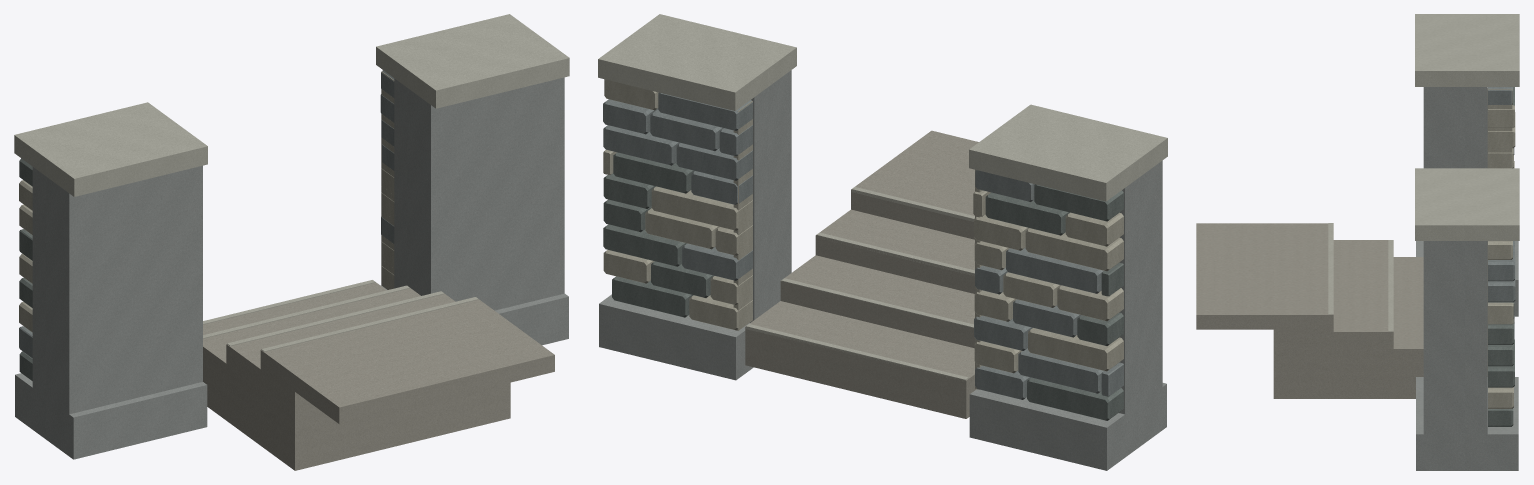
3 renders of one model, left to right at view 1: azimuth 30°, elevation 25°; view 2: azimuth 150°, elevation 25°; view 3: azimuth 270°, elevation 25°, orthographic. The views are drawn at different scales.
Parts seen in each view (by area): view 1: VIS_ConcreteWing__CONCRETE, VIS_Step_Stone__PATH_STONE, VIS_Coping__CONCRETE_CAP, VIS_UpperLanding__PATH_STONE, VIS_Foundation__CONCRETE, VIS_Nosing__CONCRETE_CAP, VIS_StoneWing__STONE_LIMESTONE, VIS_StoneWing__STONE_SLATE, VIS_StoneWing__STONE_IRON, VIS_CutoutQuoin__STONE_LIMESTONE; view 2: VIS_Step_Stone__PATH_STONE, VIS_Coping__CONCRETE_CAP, VIS_StoneWing__STONE_LIMESTONE, VIS_StoneWing__STONE_SLATE, VIS_StoneWing__STONE_IRON, VIS_ConcreteWing__CONCRETE, VIS_Foundation__CONCRETE, VIS_Nosing__CONCRETE_CAP, VIS_UpperLanding__PATH_STONE, VIS_CutoutQuoin__STONE_LIMESTONE; view 3: VIS_Step_Stone__PATH_STONE, VIS_ConcreteWing__CONCRETE, VIS_Coping__CONCRETE_CAP, VIS_UpperLanding__PATH_STONE, VIS_Foundation__CONCRETE, VIS_StoneWing__STONE_LIMESTONE, VIS_StoneWing__STONE_IRON, VIS_StoneWing__STONE_SLATE, VIS_Nosing__CONCRETE_CAP, VIS_CutoutQuoin__STONE_LIMESTONE.
Part boxes in pixels (x1=…): VIS_ConcreteWing__CONCRETE: x1=32, y1=77, x2=564, y2=414; VIS_Step_Stone__PATH_STONE: x1=203, y1=282, x2=510, y2=470; VIS_Coping__CONCRETE_CAP: x1=14, y1=14, x2=569, y2=196; VIS_UpperLanding__PATH_STONE: x1=295, y1=322, x2=554, y2=424; VIS_Foundation__CONCRETE: x1=15, y1=285, x2=568, y2=459; VIS_Nosing__CONCRETE_CAP: x1=203, y1=280, x2=478, y2=351; VIS_StoneWing__STONE_LIMESTONE: x1=19, y1=168, x2=394, y2=332; VIS_StoneWing__STONE_SLATE: x1=19, y1=70, x2=394, y2=358; VIS_StoneWing__STONE_IRON: x1=19, y1=158, x2=32, y2=380; VIS_CutoutQuoin__STONE_LIMESTONE: x1=381, y1=71, x2=394, y2=289; VIS_Step_Stone__PATH_STONE: x1=745, y1=164, x2=976, y2=418; VIS_Coping__CONCRETE_CAP: x1=598, y1=14, x2=1167, y2=201; VIS_StoneWing__STONE_LIMESTONE: x1=603, y1=79, x2=1123, y2=373; VIS_StoneWing__STONE_SLATE: x1=603, y1=92, x2=1123, y2=399; VIS_StoneWing__STONE_IRON: x1=603, y1=152, x2=1123, y2=420; VIS_ConcreteWing__CONCRETE: x1=750, y1=70, x2=1162, y2=414; VIS_Foundation__CONCRETE: x1=599, y1=294, x2=1166, y2=470; VIS_Nosing__CONCRETE_CAP: x1=746, y1=187, x2=974, y2=381; VIS_UpperLanding__PATH_STONE: x1=886, y1=130, x2=978, y2=185; VIS_CutoutQuoin__STONE_LIMESTONE: x1=733, y1=101, x2=982, y2=389; VIS_Step_Stone__PATH_STONE: x1=1273, y1=223, x2=1423, y2=398; VIS_ConcreteWing__CONCRETE: x1=1423, y1=87, x2=1487, y2=434; VIS_Coping__CONCRETE_CAP: x1=1415, y1=14, x2=1519, y2=240; VIS_UpperLanding__PATH_STONE: x1=1196, y1=223, x2=1273, y2=329; VIS_Foundation__CONCRETE: x1=1416, y1=241, x2=1518, y2=470; VIS_StoneWing__STONE_LIMESTONE: x1=1488, y1=105, x2=1515, y2=408; VIS_StoneWing__STONE_IRON: x1=1488, y1=87, x2=1514, y2=426; VIS_StoneWing__STONE_SLATE: x1=1488, y1=87, x2=1515, y2=339; VIS_Nosing__CONCRETE_CAP: x1=1328, y1=223, x2=1393, y2=331; VIS_CutoutQuoin__STONE_LIMESTONE: x1=1487, y1=88, x2=1512, y2=376.
Size of the model in its own units: 4 by 2.17 by 2.59.
Materials: 6 (6 with a texture image).
